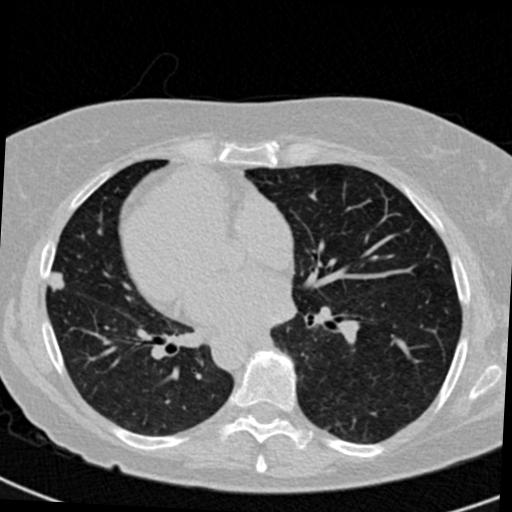nodule: (47, 269, 70, 292)
